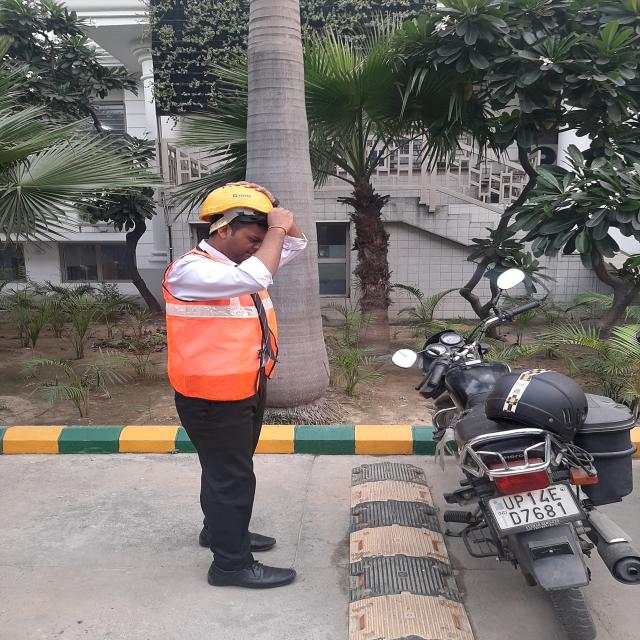safe: (167, 181, 310, 590)
